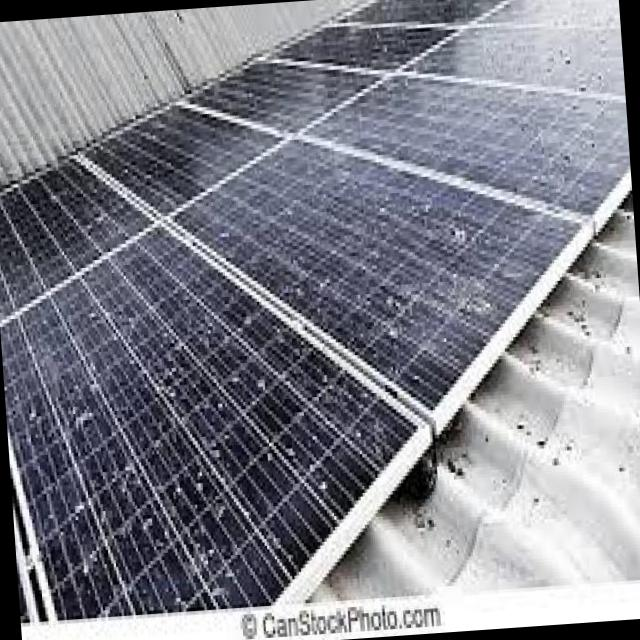faulty: (6, 225, 413, 618), (180, 135, 580, 410), (304, 77, 629, 219), (0, 154, 150, 319), (86, 106, 287, 215), (410, 25, 620, 90), (186, 63, 379, 128), (284, 21, 457, 75)
